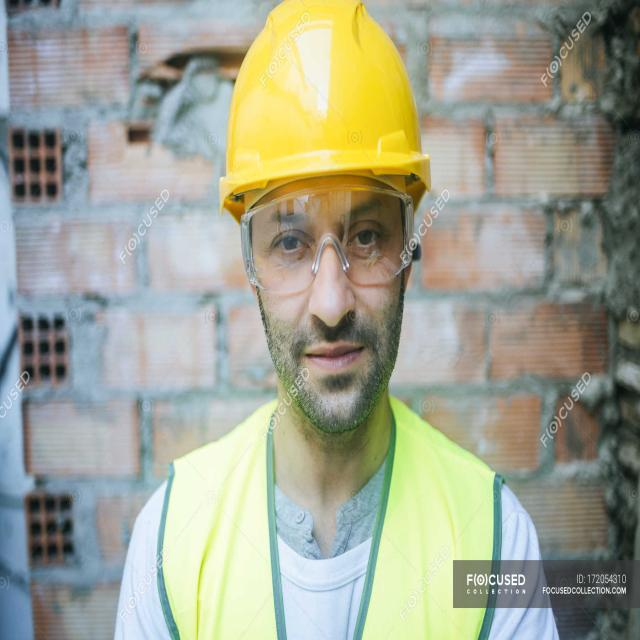goggles: (220, 184, 432, 296)
helmet: (222, 0, 431, 211)
vest: (164, 385, 508, 640)
